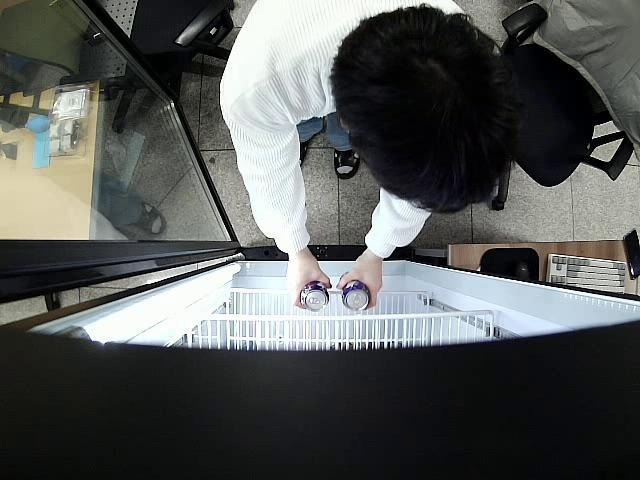14_welchsGrape: (340, 270, 372, 312), (300, 282, 331, 312)
